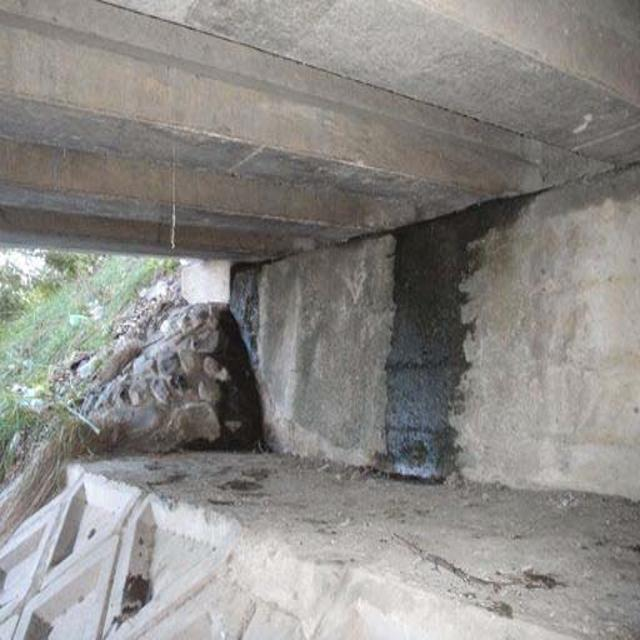leakage: (367, 208, 513, 478)
